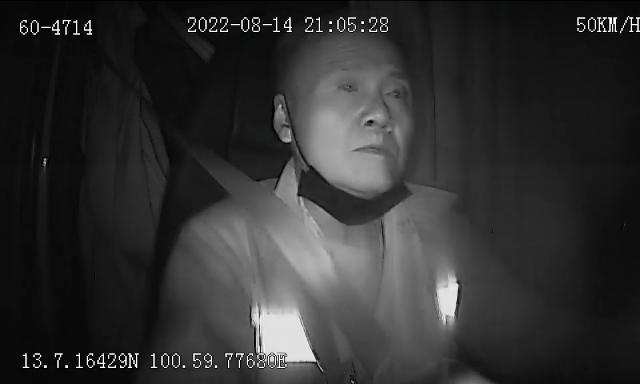SafeDriving: (332, 69, 368, 102), (377, 74, 412, 107)
Seatbelt: (197, 142, 397, 380)
